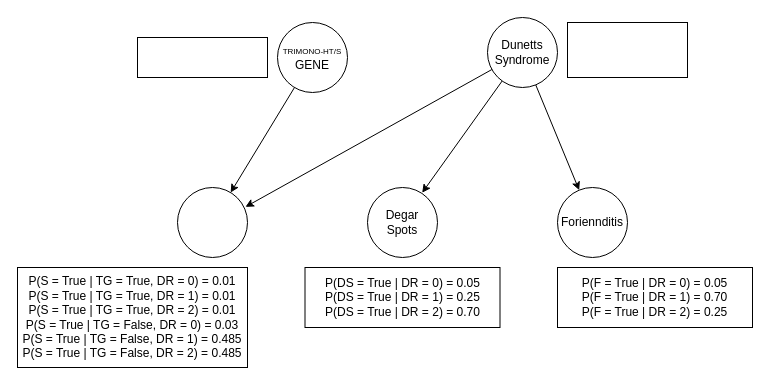
This 770x385 diagram has some shape labels left out. Here are the shapes that lost their labels. From the top down, the centre of each, then its label:
[202,57]: P(TG = True) = 0.10 P(TG = False) = 0.90
[627,50]: P(DR = 0) = 0.50 P(DR = 1) = 0.25 P(DR = 2) = 0.25
[212,222]: Sloepnea
